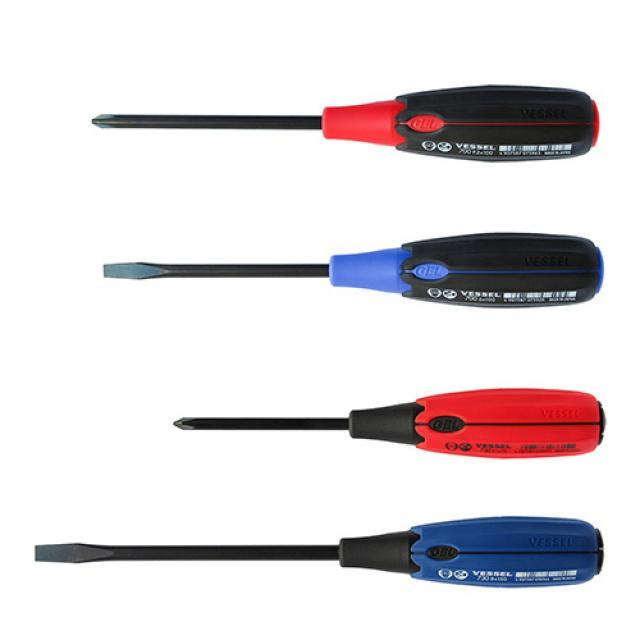screwdriver: (31, 512, 606, 593), (68, 80, 602, 166), (100, 226, 610, 312), (170, 386, 611, 463)
